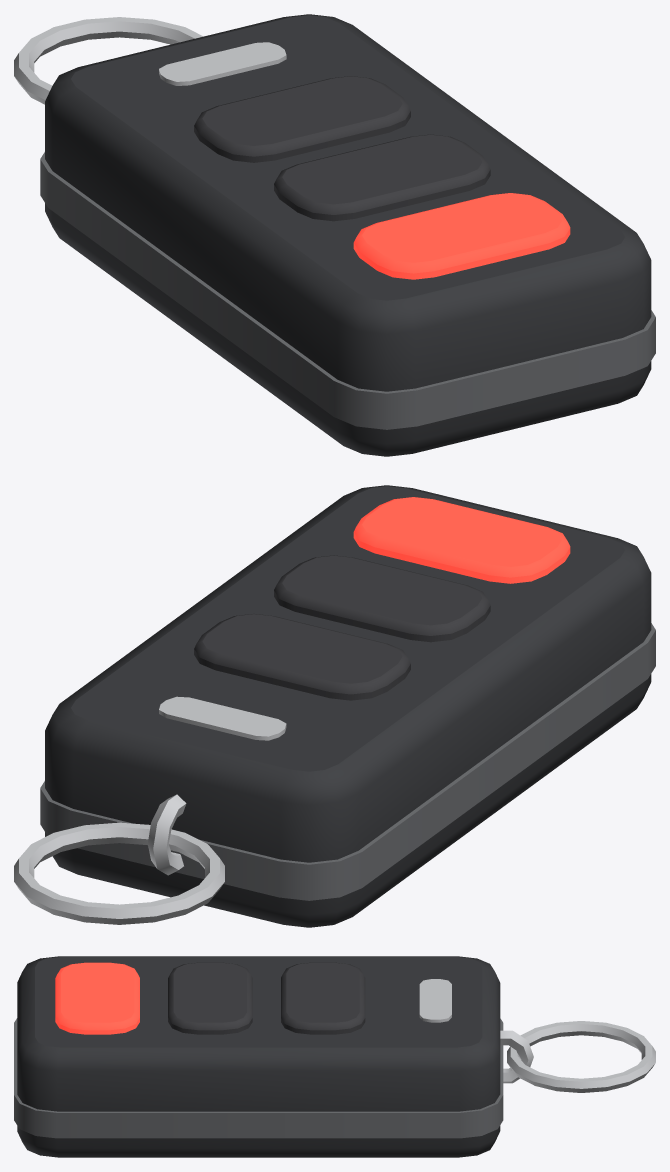
The model's file is nz_keyfob_classic.glb.
3 renders of one model, top to bottom at view 1: azimuth 30°, elevation 25°; view 2: azimuth 150°, elevation 25°; view 3: azimuth 270°, elevation 25°, orthographic. The views are drawn at different scales.
Visible parts, largest first — view 1: nz_keyfob_classic; view 2: nz_keyfob_classic; view 3: nz_keyfob_classic.
Boxes of the visible parts, x1,y1,x2,y2 form: nz_keyfob_classic: (14, 14, 655, 456); nz_keyfob_classic: (14, 485, 655, 927); nz_keyfob_classic: (14, 956, 655, 1157).
Bounding box in the file's own units: 0.0318 × 0.0163 × 0.0798.
